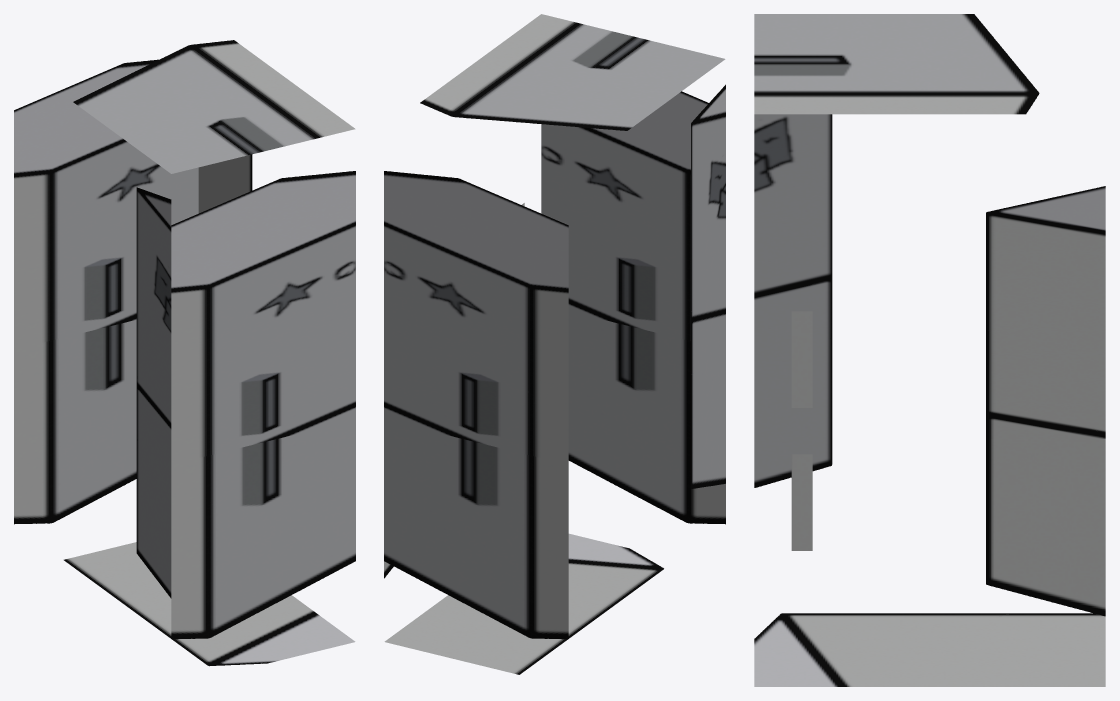
The model's file is Fridge.fbx.
3 views of the same model, side by side, from view 1: azimuth 30°, elevation 25°; view 2: azimuth 150°, elevation 25°; view 3: azimuth 270°, elevation 25° (orthographic). The views are drawn at different scales.
Parts seen in each view (by area): view 1: Fridge; view 2: Fridge; view 3: Fridge.
Part boxes in pixels (box(x1,y1,x2,y2)): Fridge: box(14, 40, 355, 666); Fridge: box(384, 14, 725, 674); Fridge: box(754, 14, 1105, 686).
Size of the model in its own units: 122 by 298 by 165.
